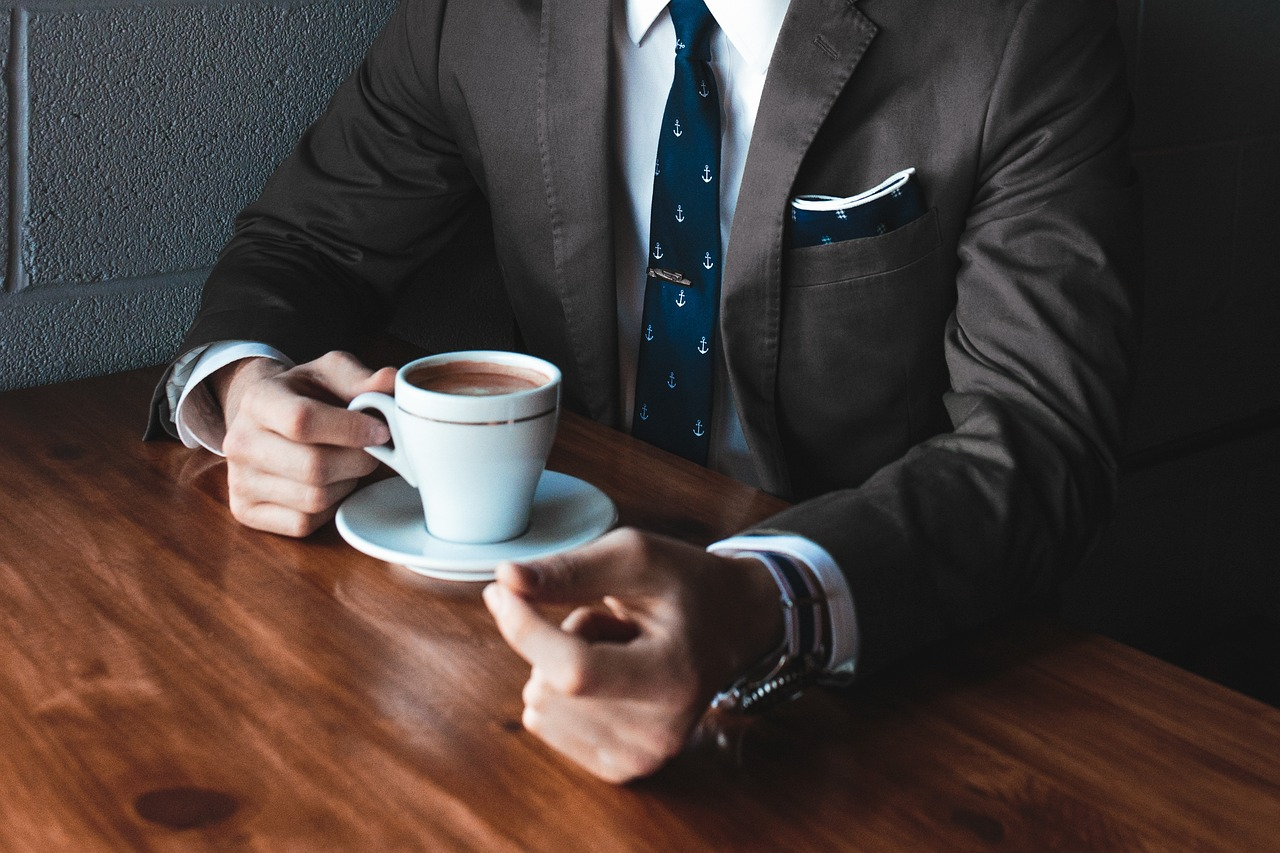mug: (335, 341, 626, 557)
